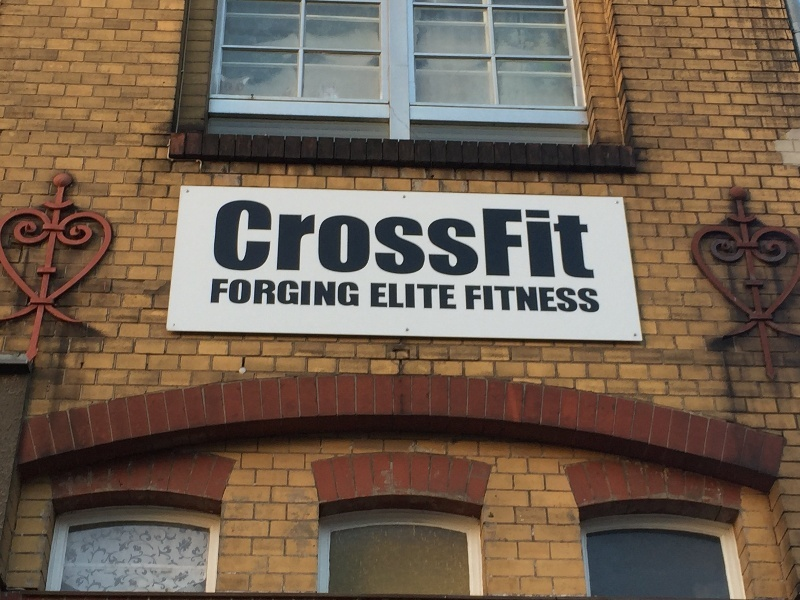text: (225, 200, 240, 278), (241, 200, 256, 278), (257, 200, 272, 278), (273, 200, 288, 278), (289, 200, 304, 278), (305, 200, 320, 278), (321, 200, 336, 278), (337, 200, 352, 278), (353, 200, 368, 278), (369, 200, 384, 278), (385, 200, 400, 278), (401, 200, 416, 278), (417, 200, 432, 278), (433, 200, 448, 278), (449, 200, 464, 278), (465, 200, 479, 278), (497, 208, 512, 280), (513, 208, 528, 280), (529, 208, 544, 280), (545, 208, 560, 280), (561, 208, 576, 280), (577, 208, 592, 280), (483, 208, 496, 280), (215, 200, 224, 278), (225, 277, 240, 307), (241, 277, 256, 307), (257, 277, 272, 307), (273, 277, 288, 307), (289, 277, 304, 307), (305, 277, 320, 307), (321, 277, 336, 307), (337, 277, 352, 307), (385, 282, 400, 310), (401, 282, 416, 310), (417, 282, 432, 310), (433, 282, 448, 310), (481, 286, 496, 313), (497, 286, 512, 313), (513, 286, 528, 313), (529, 286, 544, 313), (545, 286, 560, 313), (561, 286, 576, 313), (577, 286, 592, 313), (466, 286, 480, 313), (371, 282, 384, 310), (213, 277, 224, 307), (593, 208, 597, 280), (449, 282, 456, 310), (593, 286, 600, 313), (353, 277, 359, 307)
